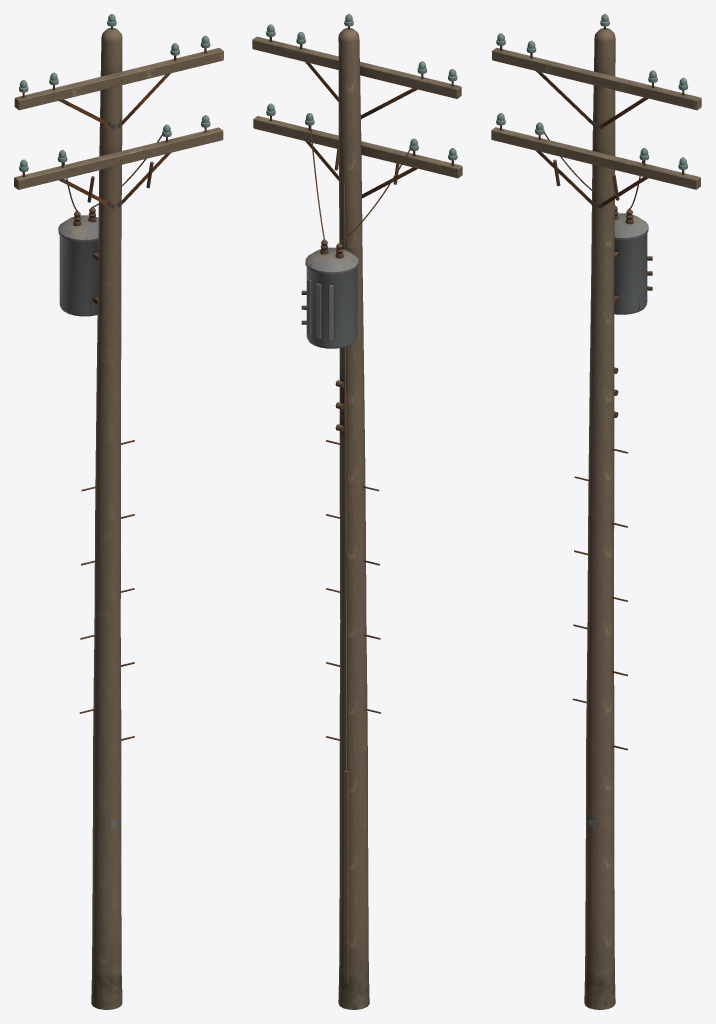
The model's file is utility_pole_xfmr.glb.
3 views of the same model, side by side, from view 1: azimuth 30°, elevation 25°; view 2: azimuth 150°, elevation 25°; view 3: azimuth 330°, elevation 25° (orthographic).
Visible parts, largest first — view 1: utility_pole_xfmr; view 2: utility_pole_xfmr; view 3: utility_pole_xfmr.
Part boxes in pixels (x1,y1,x2,y2): utility_pole_xfmr: (14, 14, 223, 1009); utility_pole_xfmr: (252, 14, 462, 1009); utility_pole_xfmr: (491, 14, 701, 1009).
Bounding box in the file's own units: 2.45 × 11.21 × 1.08.
Materials: 4 (4 with a texture image).
